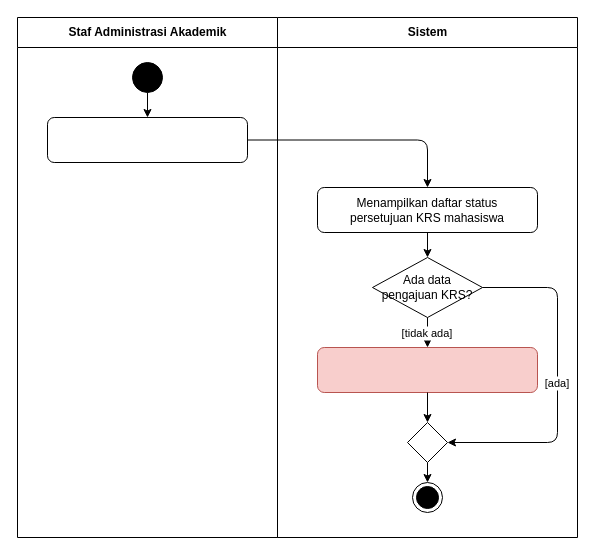
Image size: 595x555. Some labels were removed from this diagram. Here are the shapes that lost their labels. From the top down, the centre of each, then its label:
pixel 147 139: Membuka menu Lihat Hasil Persetujuan KRS
pixel 427 369: Menampilkan pesan belum ada data pengajuan KRS
